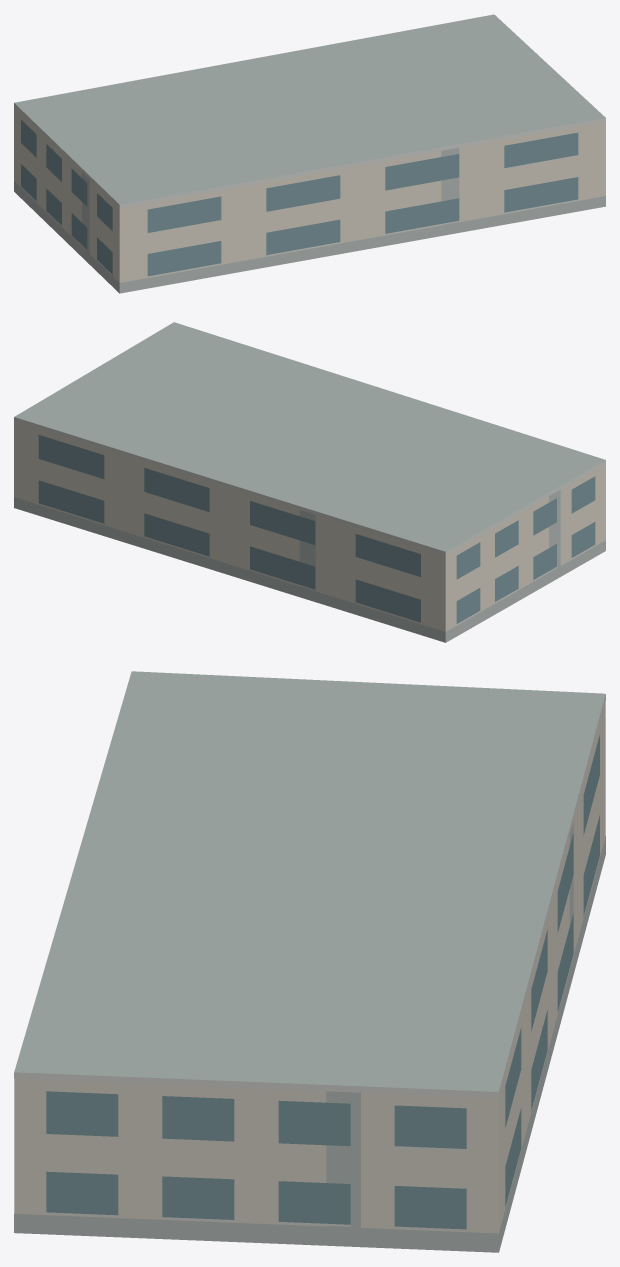
Rendered from survey-upis-32742291.glb.
3 renders of one model, top to bottom at view 1: azimuth 30°, elevation 25°; view 2: azimuth 150°, elevation 25°; view 3: azimuth 270°, elevation 25°, orthographic. The views are drawn at different scales.
Visible parts, largest first — view 1: survey-upis-32742291.tmp; view 2: survey-upis-32742291.tmp; view 3: survey-upis-32742291.tmp.
Part boxes in pixels (x1,y1,x2,y2): survey-upis-32742291.tmp: [14, 14, 605, 293]; survey-upis-32742291.tmp: [14, 322, 605, 642]; survey-upis-32742291.tmp: [14, 671, 605, 1252].
Size of the model in its own units: 34.23 by 6.1 by 20.35.
